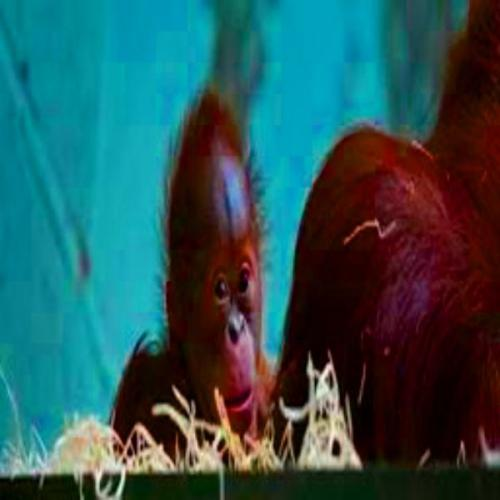orangutan-endangered: (107, 96, 281, 442)
